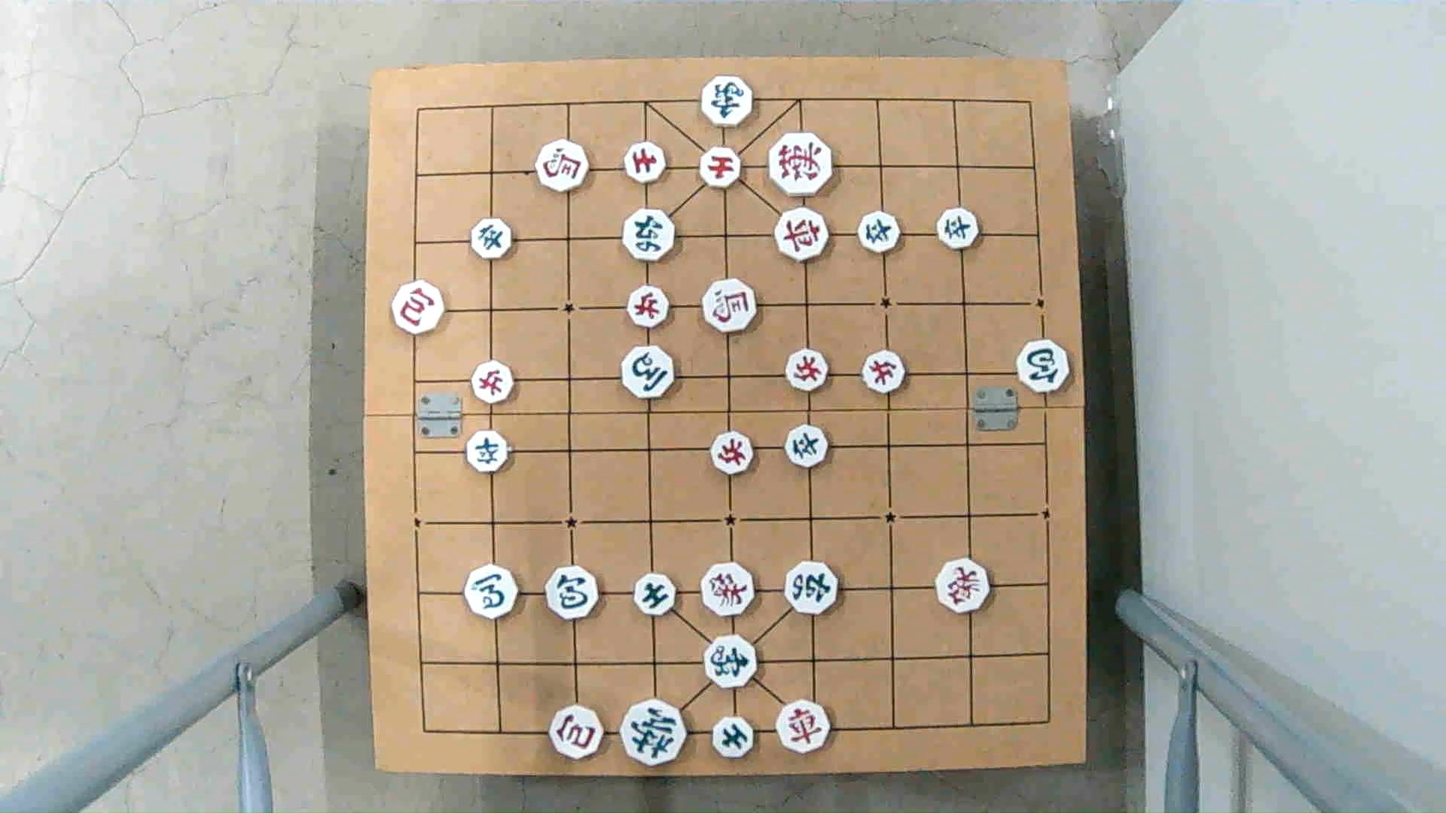cha_green: (620, 210, 677, 260), (786, 562, 837, 614)
cha_red: (772, 209, 829, 259), (776, 702, 831, 751)
jol_green: (783, 427, 831, 468), (465, 433, 512, 471), (469, 219, 515, 257), (936, 209, 981, 247), (858, 215, 903, 252)
jol_red: (709, 434, 758, 473), (862, 352, 908, 392), (470, 362, 517, 400), (785, 352, 831, 390), (626, 286, 671, 324)
ma_green: (462, 566, 519, 617), (620, 348, 676, 397)
ma_red: (703, 282, 760, 330), (535, 141, 590, 190)
po_green: (543, 569, 599, 618), (1017, 342, 1070, 391)
po_red: (549, 707, 603, 757), (389, 285, 445, 333)
sa_green: (634, 572, 677, 615), (712, 717, 754, 757)
sa_red: (697, 145, 743, 188), (622, 144, 667, 181)
sang_green: (706, 636, 758, 688), (704, 78, 750, 123)
sang_red: (934, 562, 990, 611), (702, 565, 750, 614)
wang_green: (621, 704, 688, 760)
wang_red: (770, 135, 832, 191)
